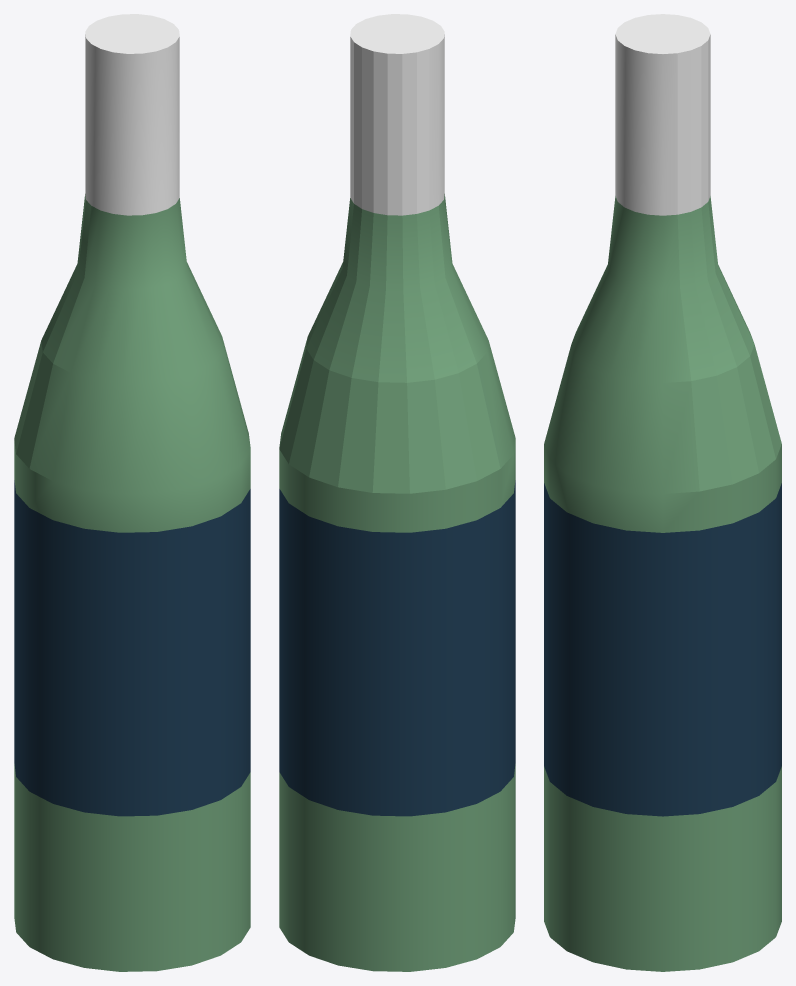
File: bottle04.fbx
The picture shows the model from 3 angles, left to right: view 1: azimuth 30°, elevation 25°; view 2: azimuth 150°, elevation 25°; view 3: azimuth 270°, elevation 25°; orthographic projection.
Parts seen in each view (by area): view 1: bottle04; view 2: bottle04; view 3: bottle04.
Part boxes in pixels (box(x1,y1,x2,y2)): bottle04: box(14, 14, 250, 971); bottle04: box(279, 14, 515, 971); bottle04: box(544, 14, 781, 971).
Bounding box in the file's own units: 0.3581 × 1.48 × 0.3581.
